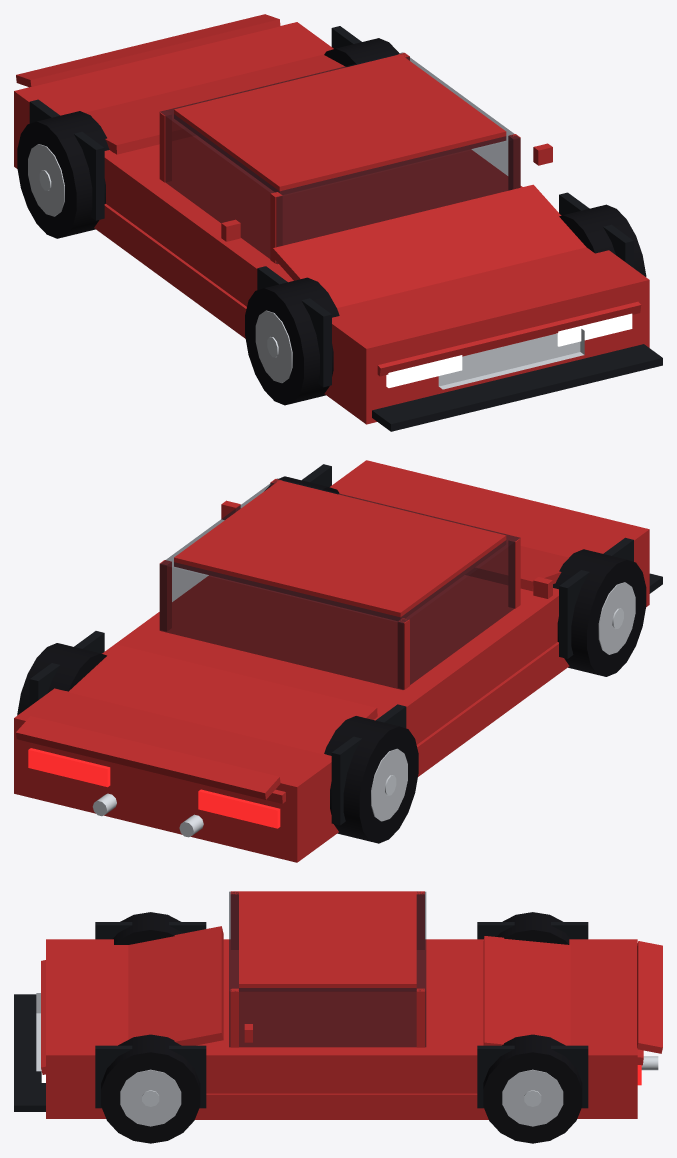
Rendered from car_supercar_01.glb.
3 renders of one model, top to bottom at view 1: azimuth 30°, elevation 25°; view 2: azimuth 150°, elevation 25°; view 3: azimuth 270°, elevation 25°, orthographic. The views are drawn at different scales.
Parts seen in each view (by area): view 1: car_supercar_01; view 2: car_supercar_01; view 3: car_supercar_01.
Boxes of the visible parts, <box> form: car_supercar_01: <box>14,14,662,431</box>; car_supercar_01: <box>14,460,662,862</box>; car_supercar_01: <box>14,891,662,1143</box>.
Bounding box in the file's own units: 2.4 × 1.07 × 4.63.
